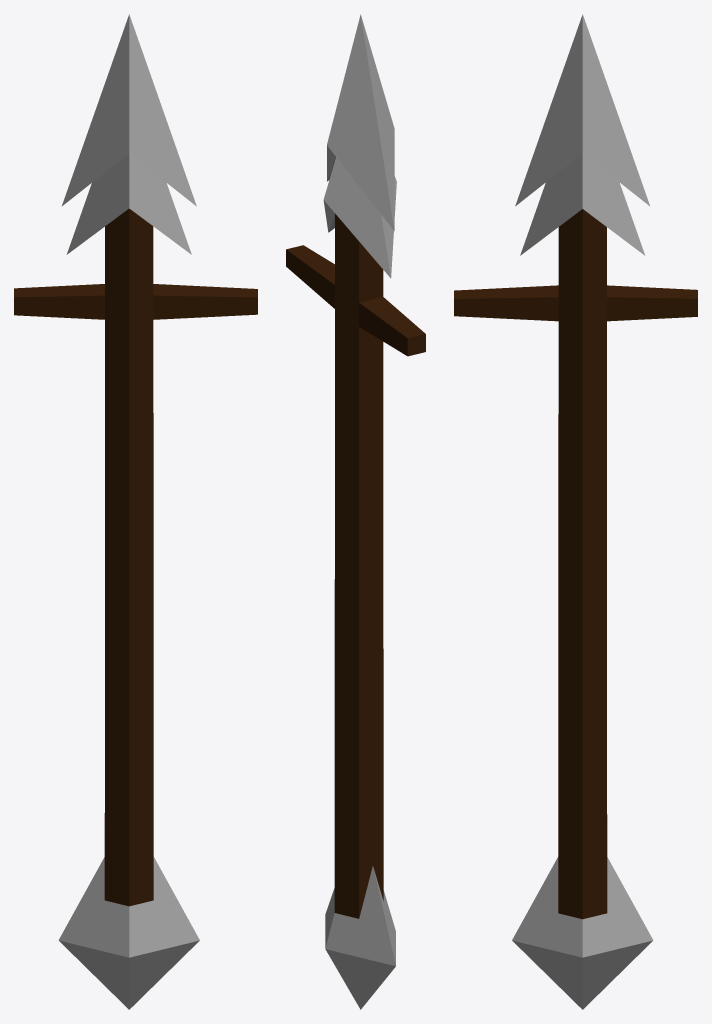
Rendered from Lanza.fbx.
3 renders of one model, left to right at view 1: azimuth 90°, elevation 25°; view 2: azimuth 210°, elevation 25°; view 3: azimuth 270°, elevation 25°, orthographic.
Parts seen in each view (by area): view 1: base; view 2: base; view 3: base.
Boxes of the visible parts, x1,y1,x2,y2 form: base: (14, 14, 257, 1009); base: (286, 14, 425, 1009); base: (454, 14, 697, 1009).
Size of the model in its own units: 22.19 by 288 by 63.91.
